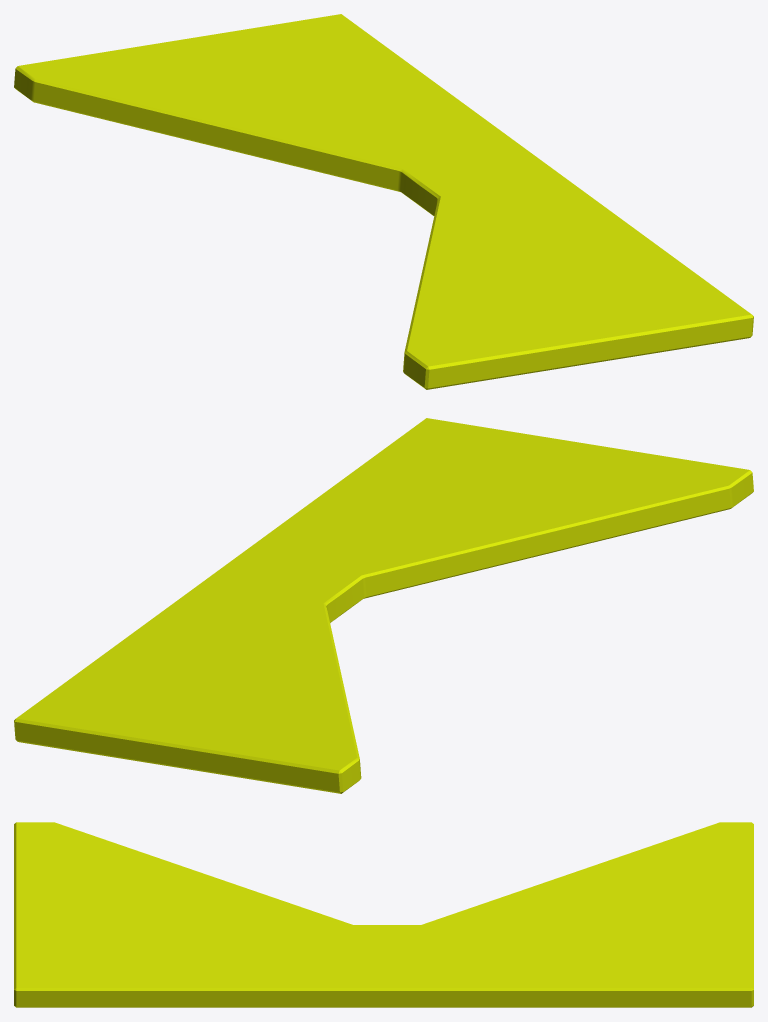
The model's file is Manual_Board.fbx.
3 renders of one model, top to bottom at view 1: azimuth 30°, elevation 25°; view 2: azimuth 150°, elevation 25°; view 3: azimuth 270°, elevation 25°, orthographic. The views are drawn at different scales.
Parts seen in each view (by area): view 1: Manual_Board; view 2: Manual_Board; view 3: Manual_Board.
Part boxes in pixels (<box>): Manual_Board: <box>14,14,753,389</box>; Manual_Board: <box>14,418,753,793</box>; Manual_Board: <box>14,822,753,1007</box>.
Size of the model in its own units: 21.4 by 3.1 by 46.48.
